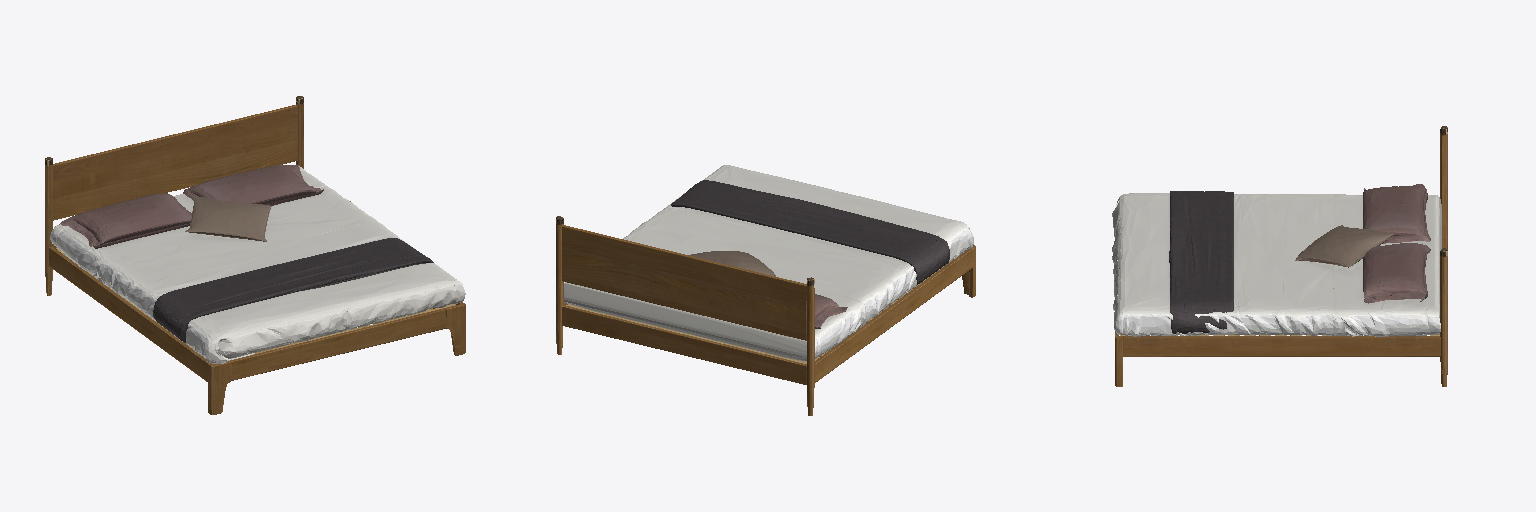
3 views of the same model, side by side, from view 1: azimuth 30°, elevation 25°; view 2: azimuth 150°, elevation 25°; view 3: azimuth 270°, elevation 25° (orthographic).
Parts seen in each view (by area): view 1: solid_001, solid_005, solid_002, solid_003, solid_004; view 2: solid_005, solid_001, solid_002, solid_004, solid_003; view 3: solid_001, solid_005, solid_002, solid_003, solid_004.
Part boxes in pixels (left/top/right/bottom): solid_001: left=50, top=166, right=465, bottom=363; solid_005: left=45, top=103, right=465, bottom=414; solid_002: left=153, top=238, right=433, bottom=342; solid_003: left=60, top=165, right=323, bottom=248; solid_004: left=185, top=196, right=271, bottom=241; solid_005: left=556, top=224, right=975, bottom=415; solid_001: left=564, top=165, right=973, bottom=361; solid_002: left=671, top=180, right=949, bottom=284; solid_004: left=689, top=251, right=775, bottom=276; solid_003: left=815, top=294, right=847, bottom=328; solid_001: left=1112, top=193, right=1441, bottom=336; solid_005: left=1115, top=133, right=1447, bottom=386; solid_002: left=1169, top=191, right=1233, bottom=333; solid_003: left=1363, top=184, right=1430, bottom=303; solid_004: left=1295, top=225, right=1393, bottom=267.
Size of the model in its own units: 2.31 by 1.17 by 2.59.
1 materials, 1 textured.